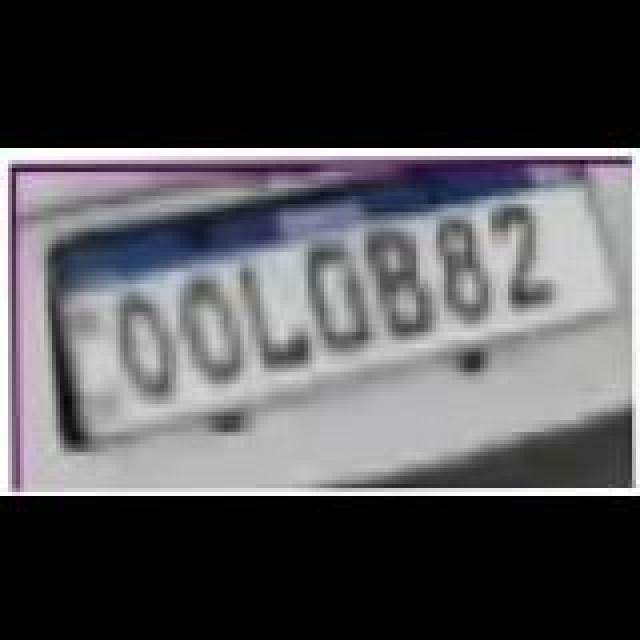2: (490, 202, 558, 310)
8: (436, 216, 500, 320)
B: (368, 224, 440, 336)
D: (310, 236, 378, 348)
L: (244, 258, 316, 366)
O: (174, 272, 250, 384), (112, 288, 184, 400)
